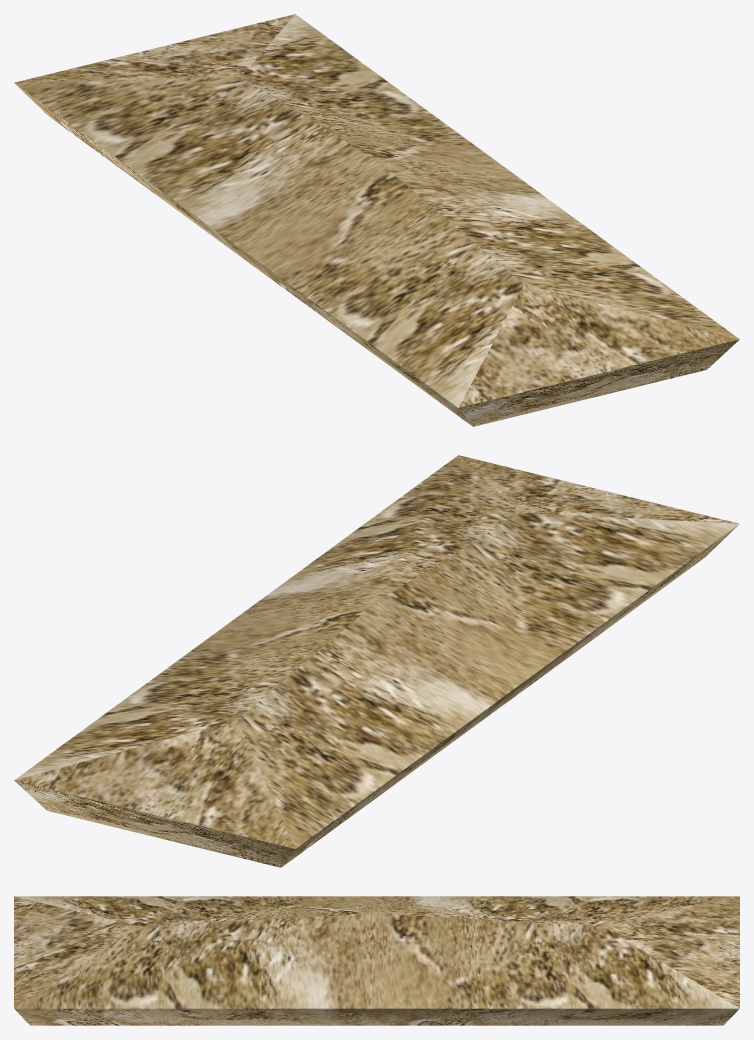
The model's file is pir_m_prp_cem_tombLid_1.fbx.
3 views of the same model, one above another, from view 1: azimuth 30°, elevation 25°; view 2: azimuth 150°, elevation 25°; view 3: azimuth 270°, elevation 25° (orthographic). The views are drawn at different scales.
Visible parts, largest first — view 1: lod_high; view 2: lod_high; view 3: lod_high.
Part boxes in pixels (x1,y1,x2,y2): lod_high: (14, 14, 739, 426); lod_high: (14, 455, 739, 867); lod_high: (14, 896, 739, 1025).
Size of the model in its own units: 306 by 84.04 by 838.
1 material, 1 textured.
